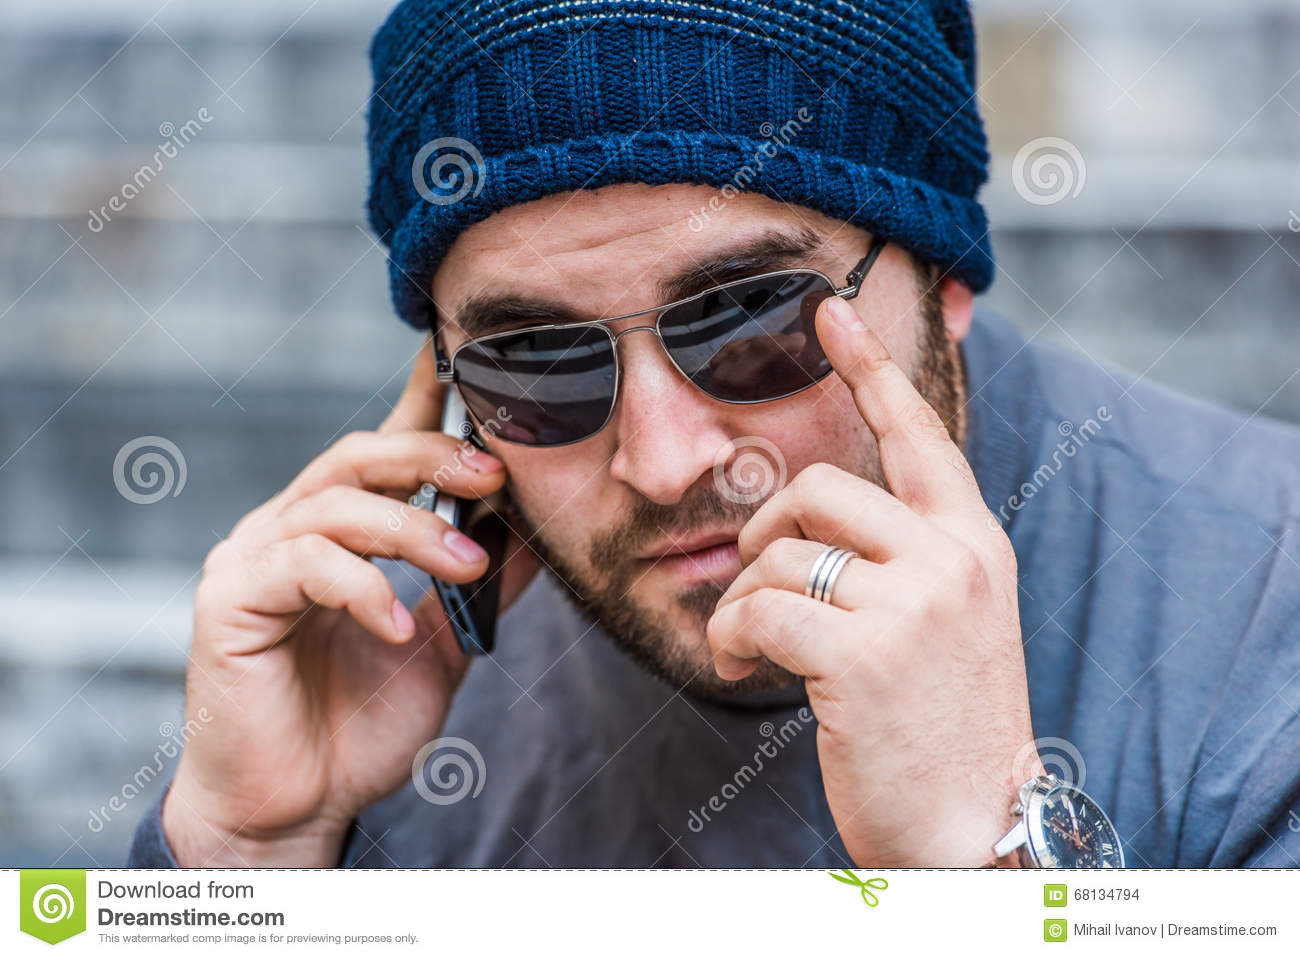phone: (416, 367, 510, 660)
talk: (170, 213, 886, 833)
